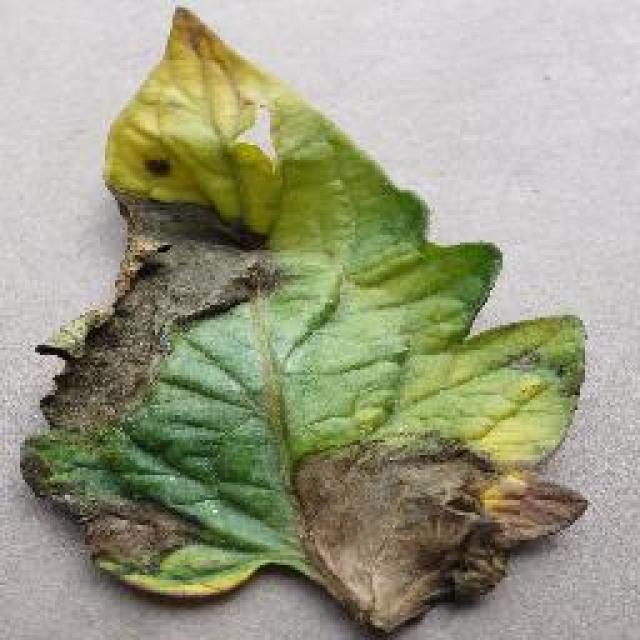Tomato Late Blight: (40, 180, 547, 583)
